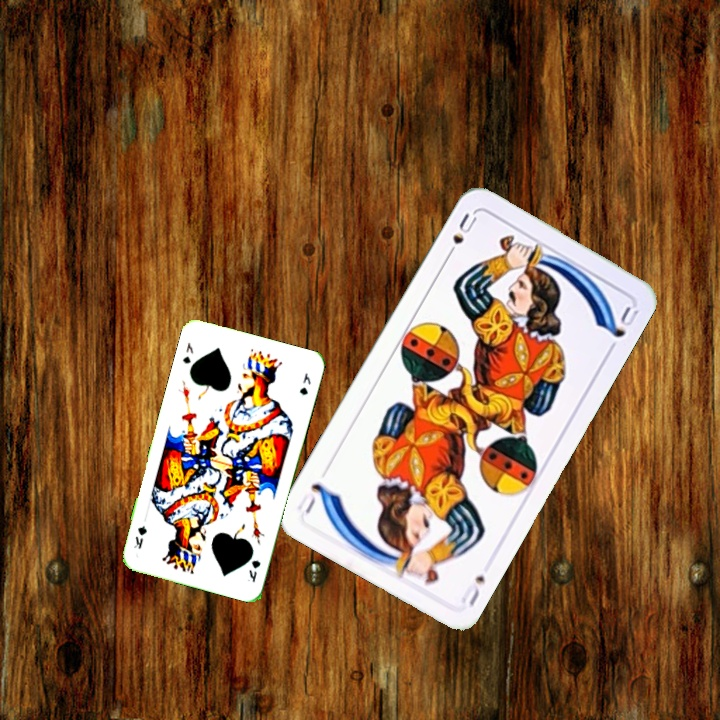GK: (243, 556, 263, 585), (178, 338, 196, 366)
SU: (442, 209, 480, 263), (456, 571, 488, 609)
